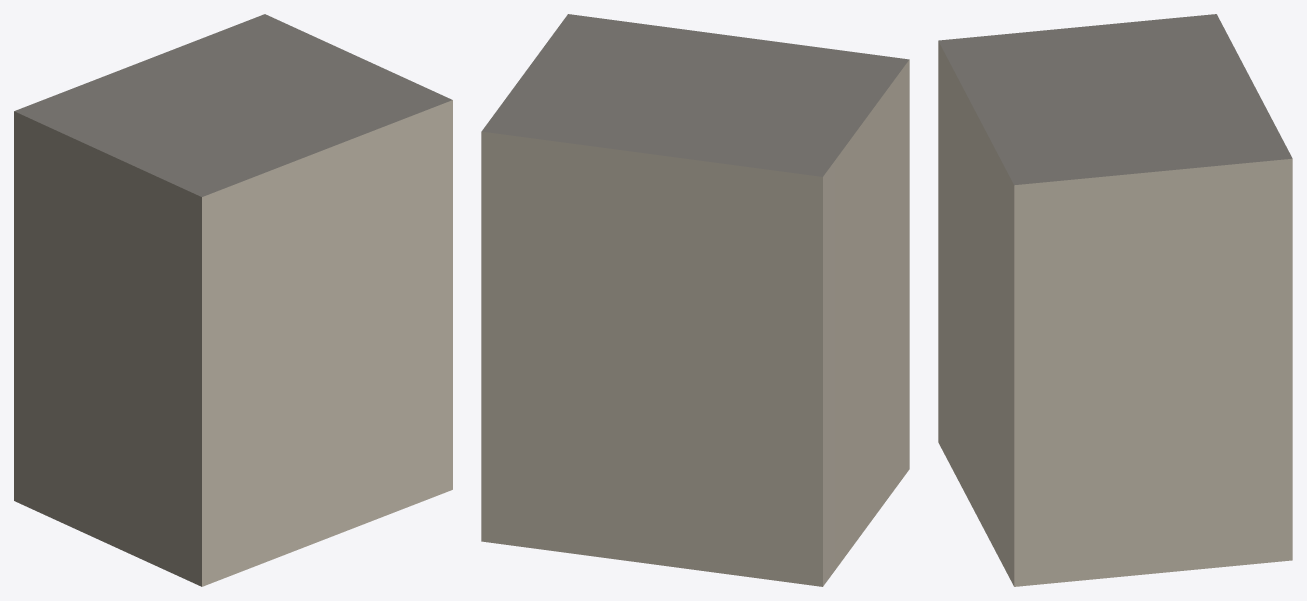
3 views of the same model, side by side, from view 1: azimuth 30°, elevation 25°; view 2: azimuth 150°, elevation 25°; view 3: azimuth 270°, elevation 25° (orthographic). The views are drawn at different scales.
Parts seen in each view (by area): view 1: HP-w300054655; view 2: HP-w300054655; view 3: HP-w300054655.
Part boxes in pixels (box(x1,y1,x2,y2)): HP-w300054655: box(14, 14, 452, 586); HP-w300054655: box(481, 14, 909, 586); HP-w300054655: box(938, 14, 1292, 586).
Size of the model in its own units: 13.71 by 15 by 12.
